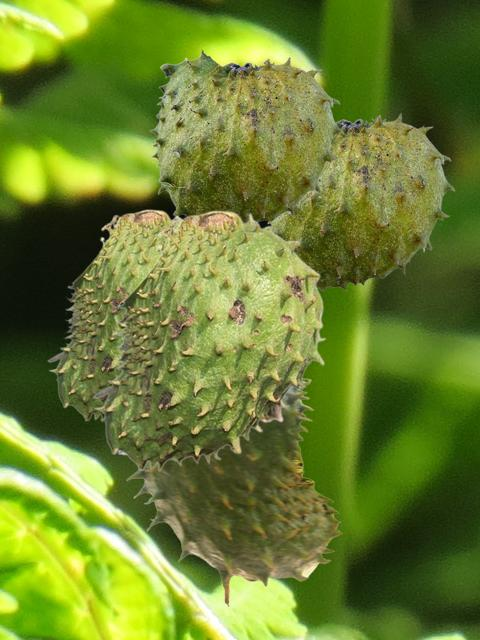guyabano: (92, 210, 325, 471), (118, 377, 341, 606), (149, 48, 343, 222), (266, 113, 454, 290), (47, 209, 182, 421)
